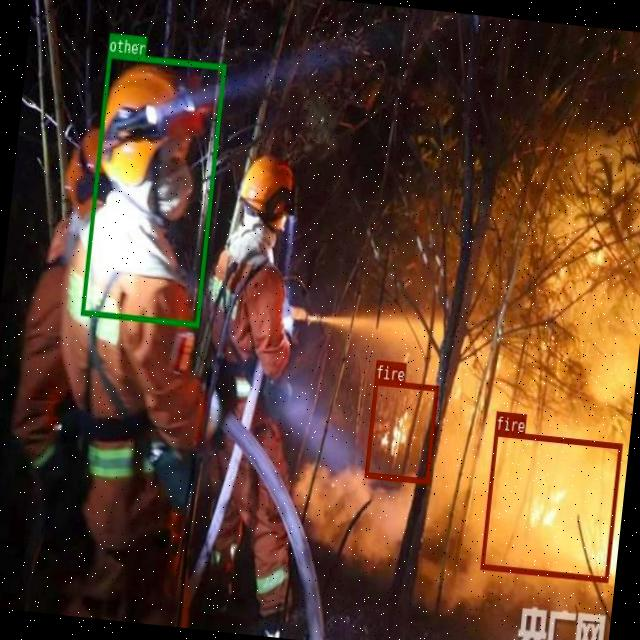fire: (479, 429, 622, 582), (363, 378, 438, 482)
